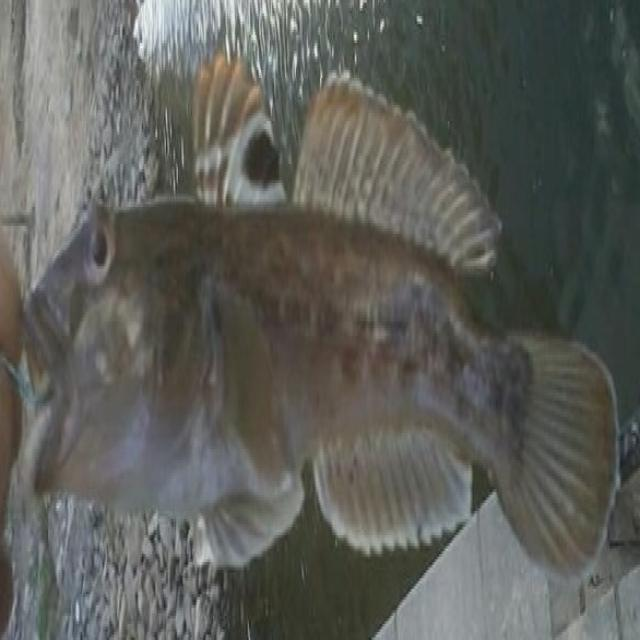Goby: (23, 73, 627, 630)
